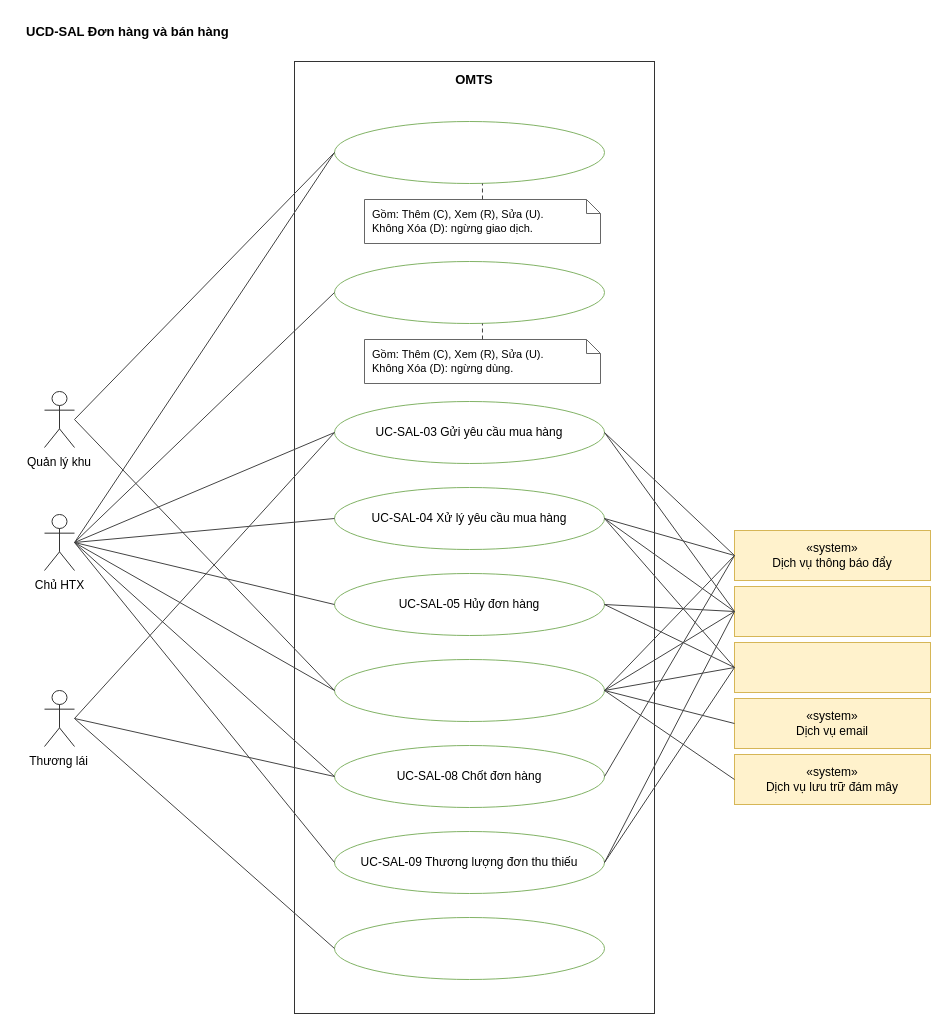
The diagram is 948 pixels wide and 1031 high, and some of its shapes have lost their labels. The shapes that lost their labels are listed below. From the top down, each one's centre as x and y in pixels, then its label:
(469,152): UC-SAL-01 Quản lý khách hàng
(469,292): UC-SAL-02 Quản lý danh mục sản phẩm
(832,611): «system» Zalo OA
(832,667): «system» Dịch vụ SMS
(469,690): UC-SAL-06 Hoàn tất bán hàng tại cảng
(469,948): UC-SAL-07 Theo dõi đơn hàng
